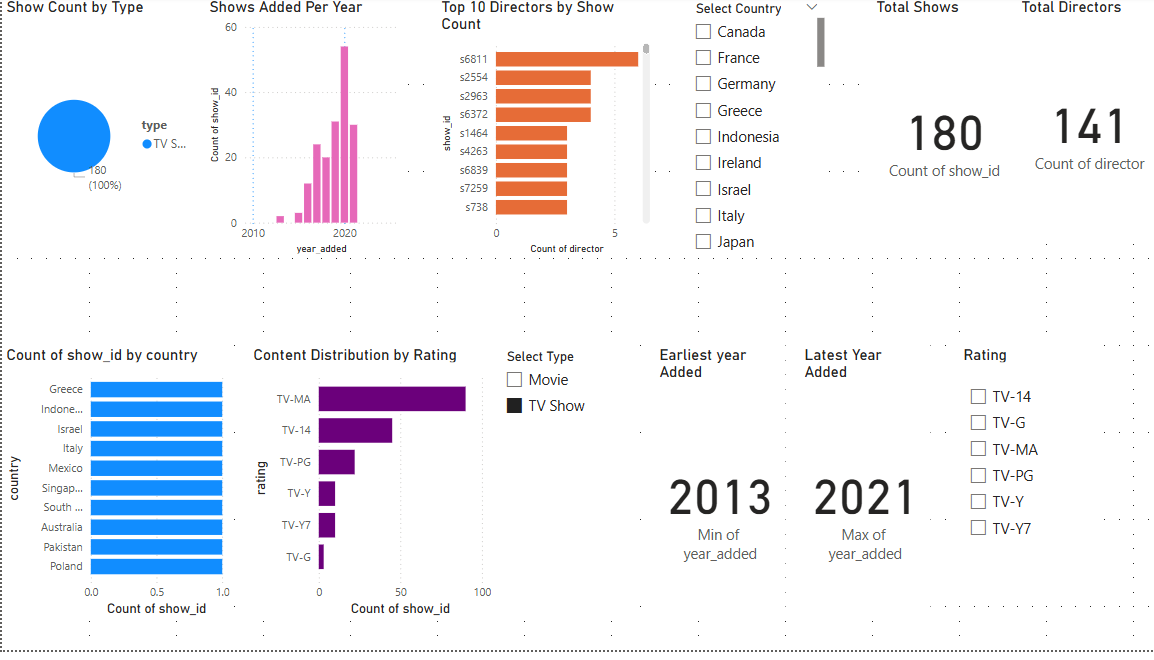

This screenshot's page, from the dashboard's own definition file:
{"tool":"powerbi","page":{"name":"Page 1","canvas":[1280,720],"ordinal":0},"visuals":[{"type":"pieChart","fields":{"Category":["netflix_titles.type"],"Y":["CountNonNull(netflix_titles.show_id)"]},"box":[0,0,224,288],"z":0},{"type":"clusteredColumnChart","fields":{"Category":["netflix_titles.year_added"],"Y":["CountNonNull(netflix_titles.show_id)"]},"box":[272,0,272,288],"z":1000},{"type":"barChart","fields":{"Category":["netflix_titles.country"],"Y":["CountNonNull(netflix_titles.show_id)"]},"box":[0,384,384,272],"z":2000},{"type":"barChart","fields":{"Category":["netflix_titles.show_id"],"Y":["CountNonNull(netflix_titles.director)"]},"box":[560,0,272,288],"z":3000},{"type":"clusteredBarChart","fields":{"Category":["netflix_titles.rating"],"Y":["CountNonNull(netflix_titles.show_id)"]},"box":[560,384,272,272],"z":4000}]}

Visuals, with their boxes in screenshot pixels (x1, y1, x2, y2), scaled from the page's 1280x720 canvas onto the 1154x660 screenshot:
pieChart - netflix_titles.type x CountNonNull(netflix_titles.show_id): region(0, 0, 202, 264)
clusteredColumnChart - netflix_titles.year_added x CountNonNull(netflix_titles.show_id): region(245, 0, 490, 264)
barChart - netflix_titles.country x CountNonNull(netflix_titles.show_id): region(0, 352, 346, 601)
barChart - netflix_titles.show_id x CountNonNull(netflix_titles.director): region(505, 0, 750, 264)
clusteredBarChart - netflix_titles.rating x CountNonNull(netflix_titles.show_id): region(505, 352, 750, 601)
